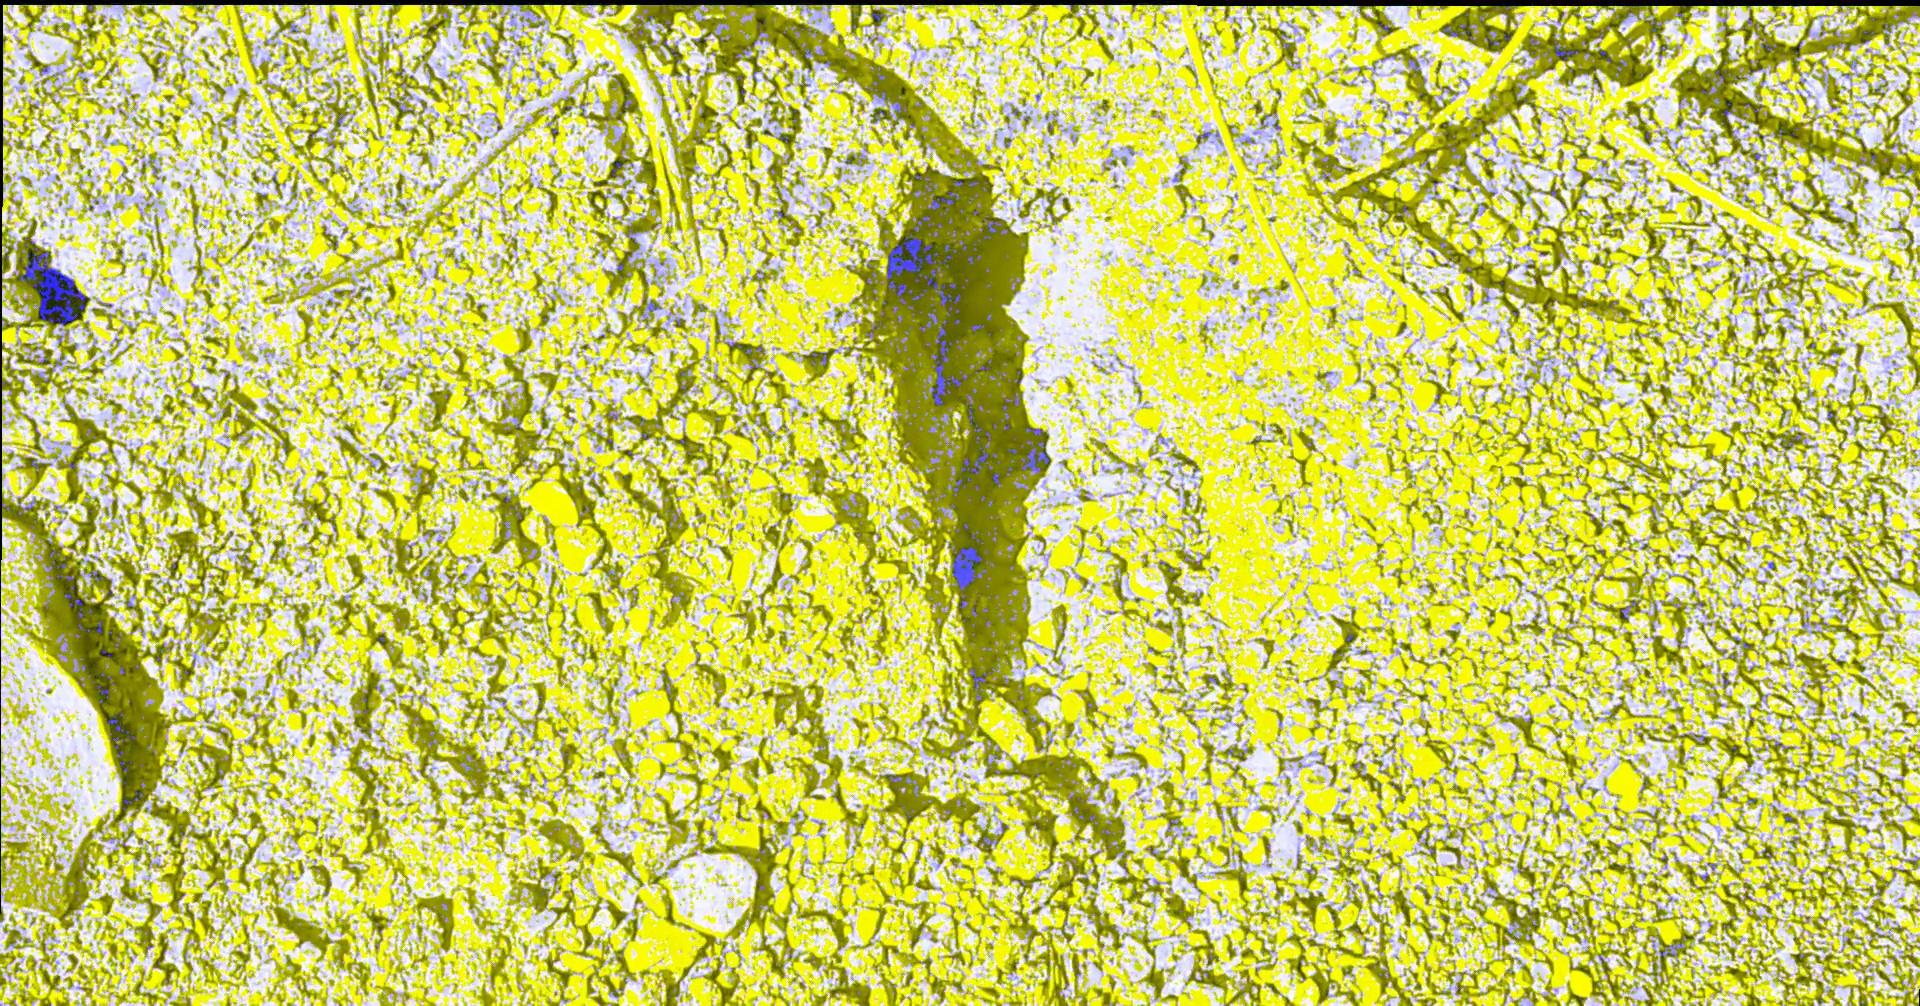ant: (932, 319, 960, 405), (952, 546, 982, 587), (961, 445, 988, 473), (107, 713, 135, 739), (938, 282, 960, 312), (63, 592, 83, 619), (1026, 446, 1049, 467), (968, 405, 980, 437), (932, 192, 955, 208), (1554, 46, 1578, 60)
